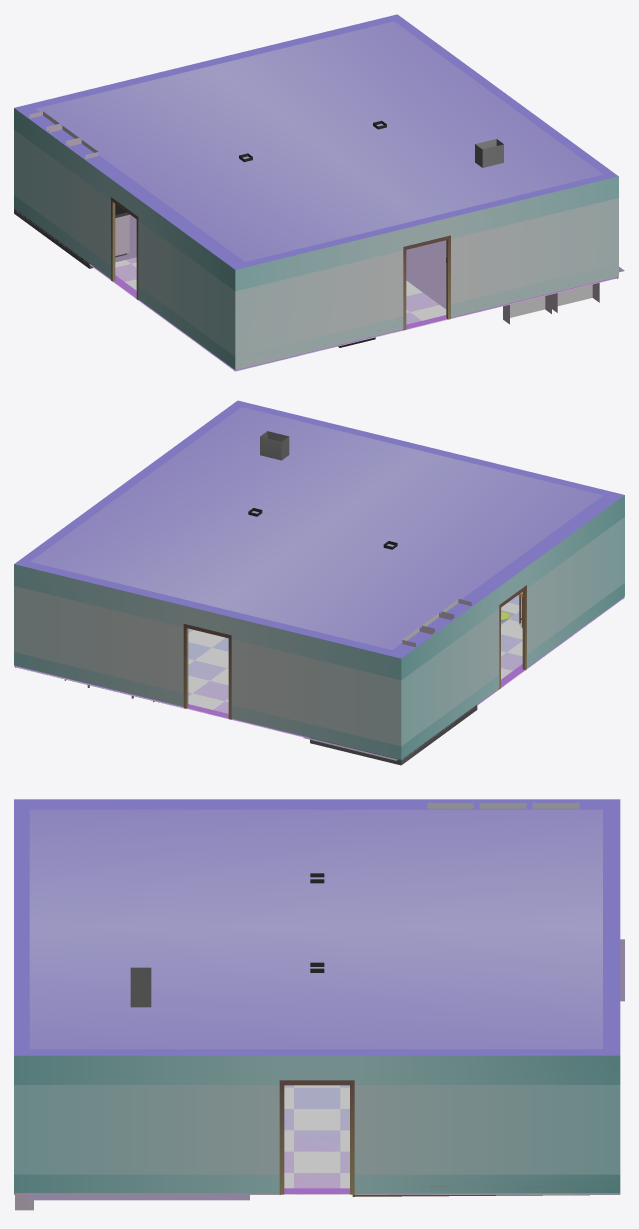
File: kitchen.fbx
3 renders of one model, top to bottom at view 1: azimuth 30°, elevation 25°; view 2: azimuth 150°, elevation 25°; view 3: azimuth 270°, elevation 25°, orthographic. The views are drawn at different scales.
Visible parts, largest first — view 1: kitchen; view 2: kitchen; view 3: kitchen.
Part boxes in pixels (x1,y1,x2,y2): kitchen: (14,14,624,371); kitchen: (14,400,624,765); kitchen: (14,799,624,1210).
Bounding box in the file's own units: 12.34 × 4.21 × 12.09.
